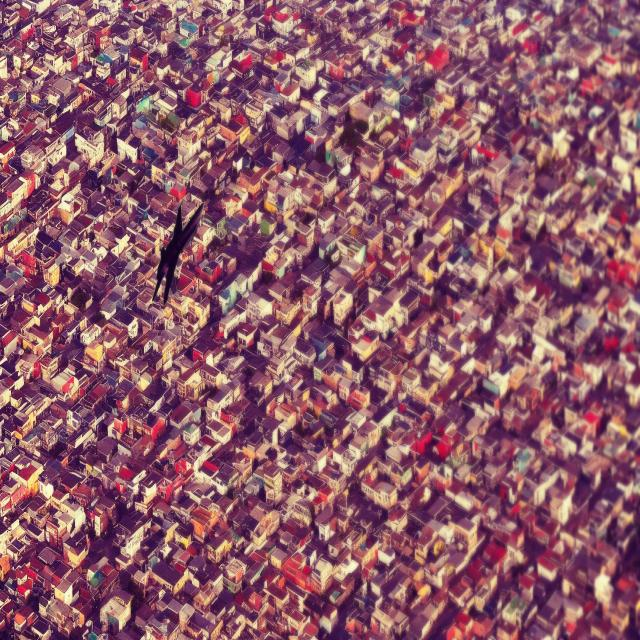airplane: (151, 198, 204, 306)
